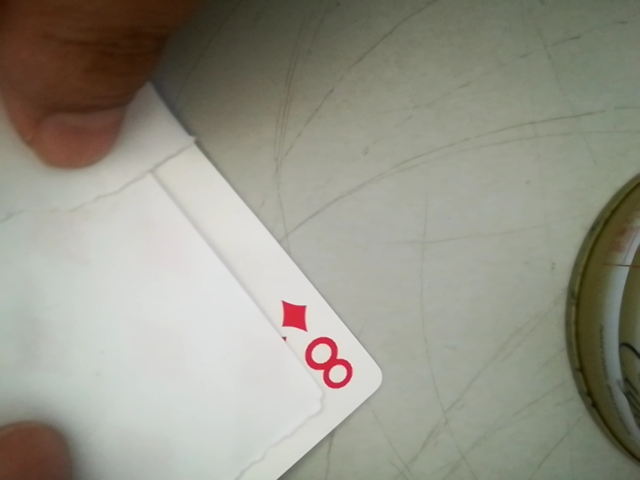fk 8: (278, 297, 364, 404)
